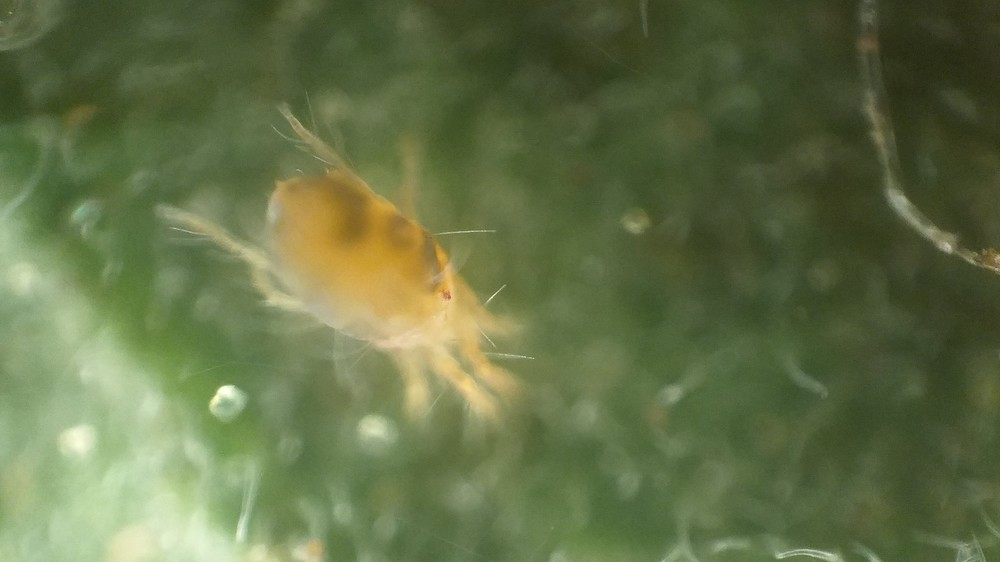Aracnido Rojo: (148, 92, 555, 441)
